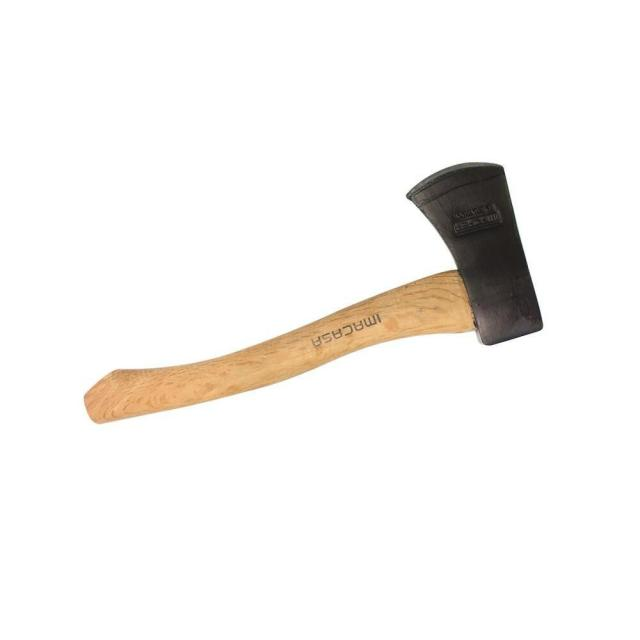Kapak: (86, 137, 573, 426)
